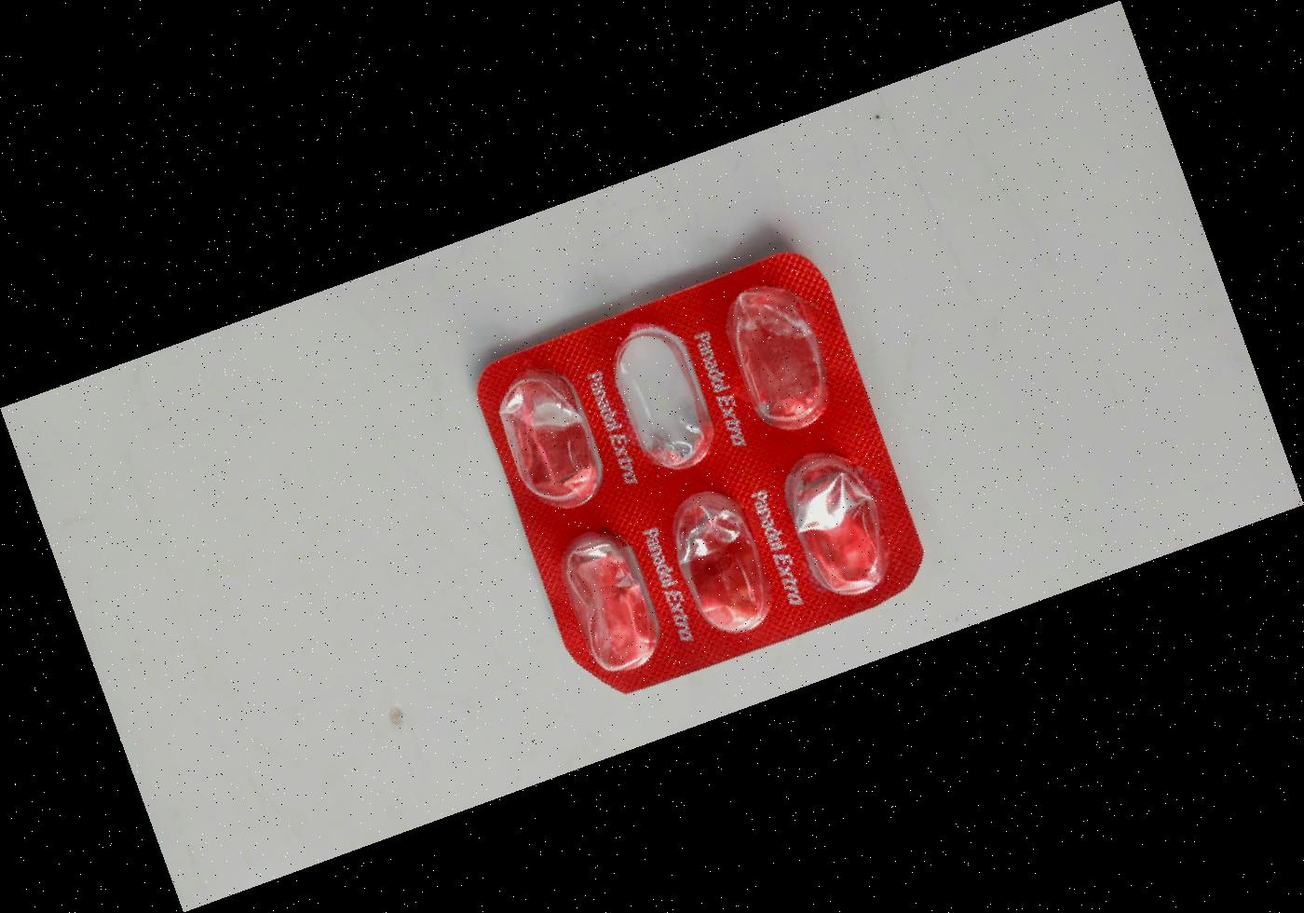Empty: (537, 503, 685, 693), (706, 260, 854, 449), (588, 305, 736, 494), (648, 468, 796, 657), (475, 342, 623, 531), (768, 430, 915, 619)
